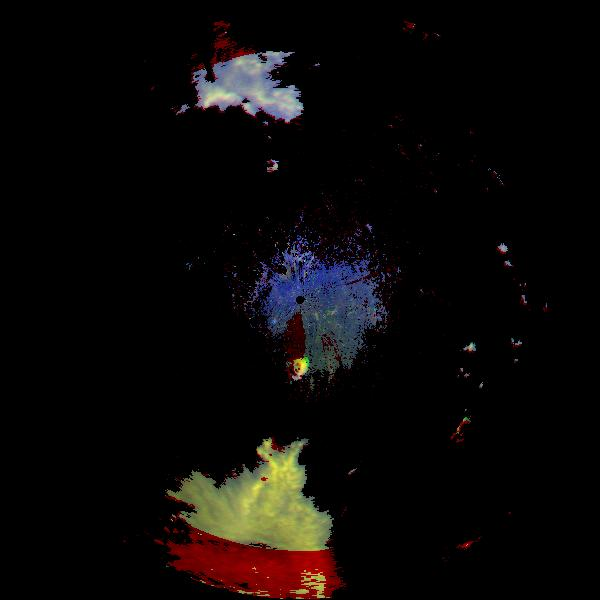roost: (451, 413, 490, 452), (275, 354, 308, 387), (262, 158, 280, 176)
